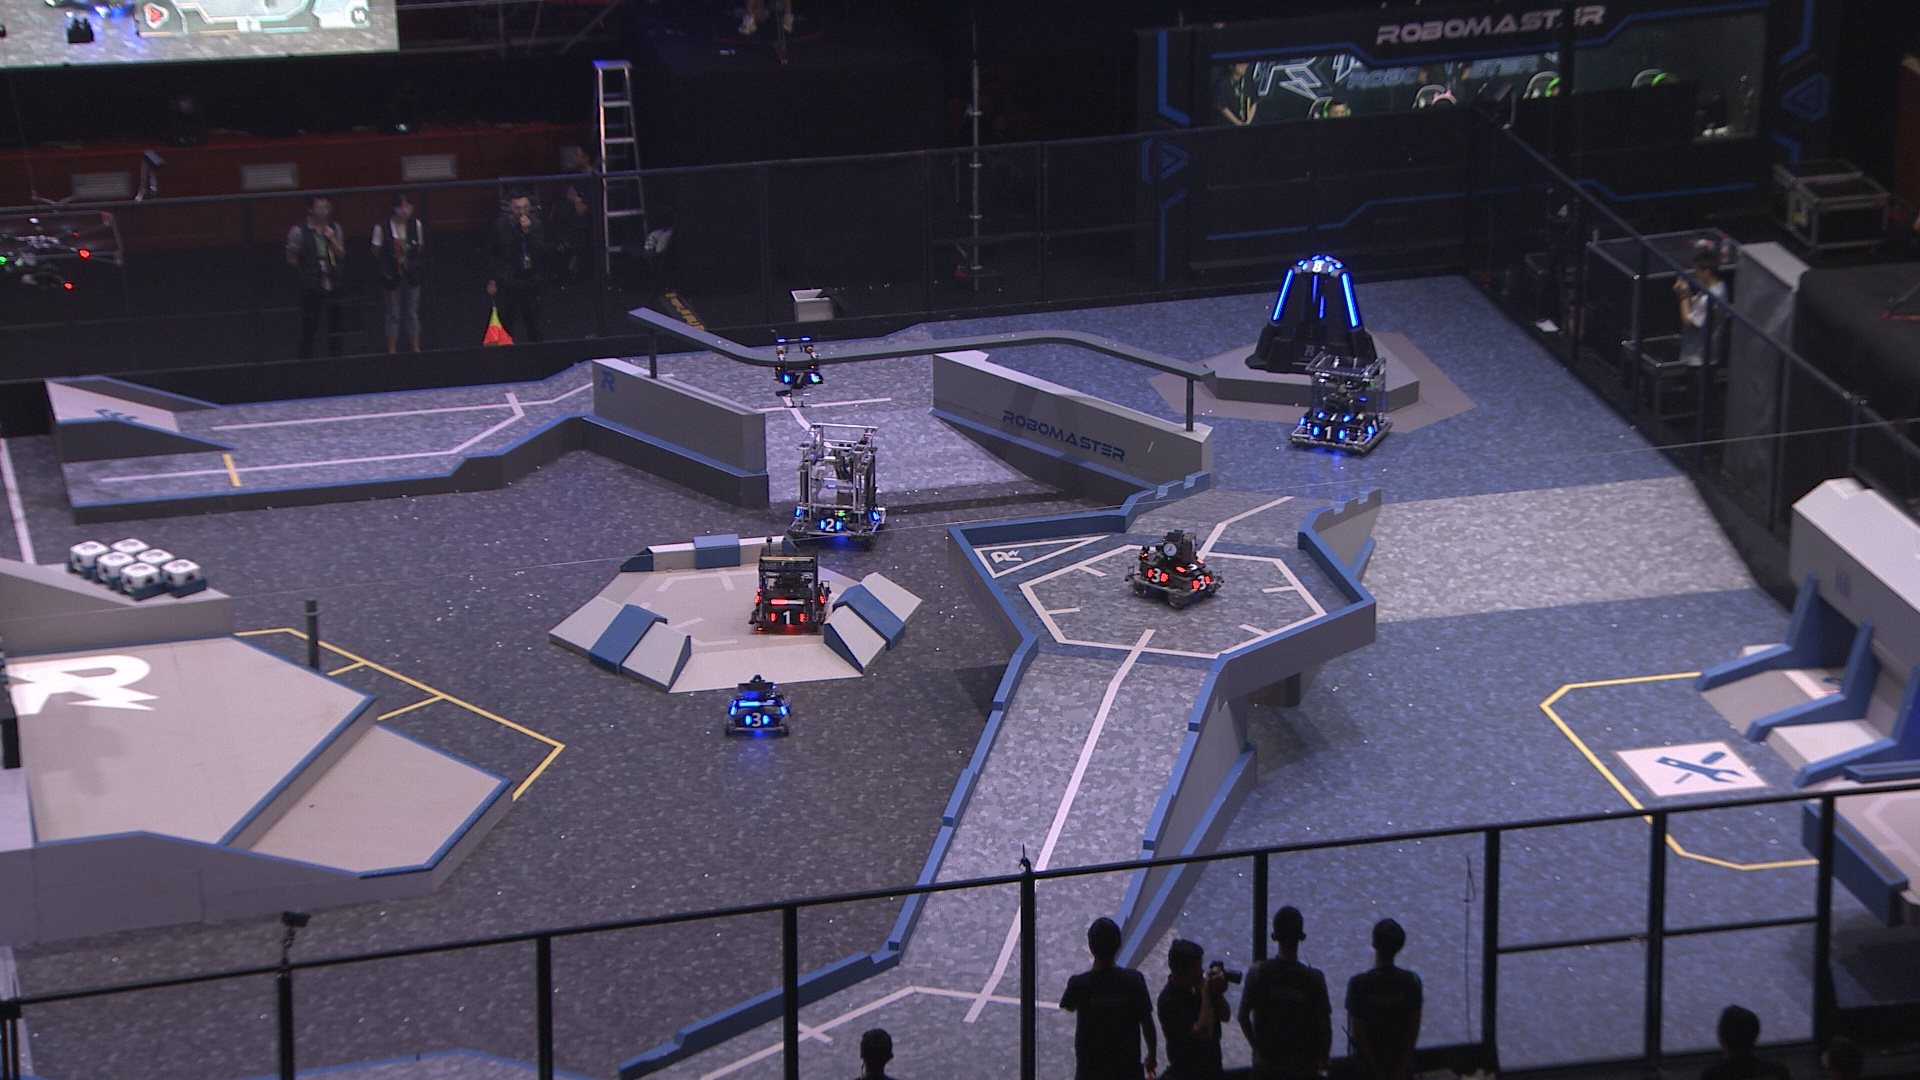armor: (1269, 268, 1296, 323), (1337, 272, 1361, 328), (769, 607, 806, 626), (1309, 423, 1348, 442), (1362, 413, 1385, 439), (1300, 258, 1335, 276), (1315, 407, 1352, 423), (781, 371, 818, 386), (1174, 556, 1207, 574), (816, 516, 844, 534), (742, 709, 770, 728), (1147, 564, 1168, 584), (1191, 574, 1211, 593), (818, 582, 831, 605), (870, 501, 884, 524), (1324, 253, 1342, 268)
base: (1244, 249, 1377, 380)
car: (787, 419, 887, 550), (1288, 349, 1395, 455), (1125, 527, 1225, 609), (749, 534, 831, 633), (721, 669, 793, 740)
watcher: (769, 324, 825, 407)
